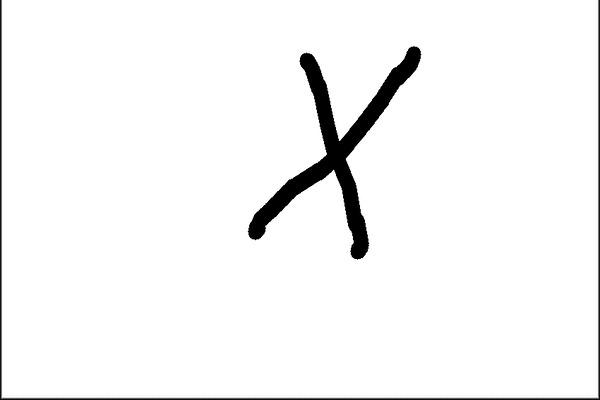X: (221, 27, 439, 266)
